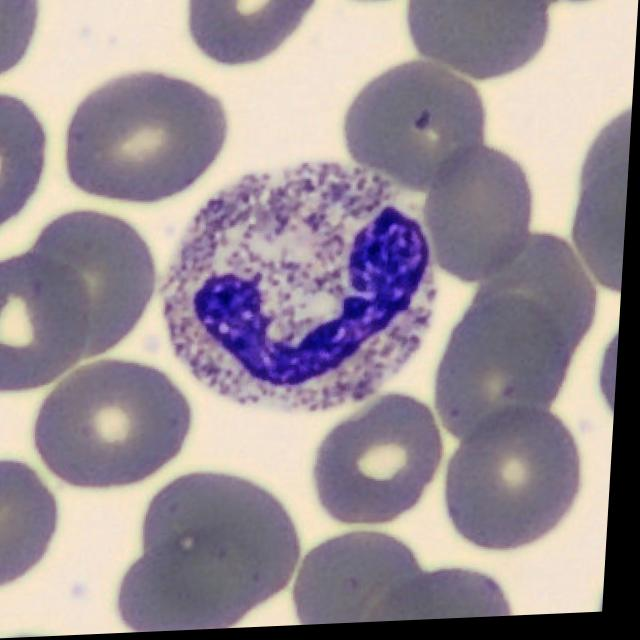Neutrofilo segmentado: (165, 164, 440, 418)
